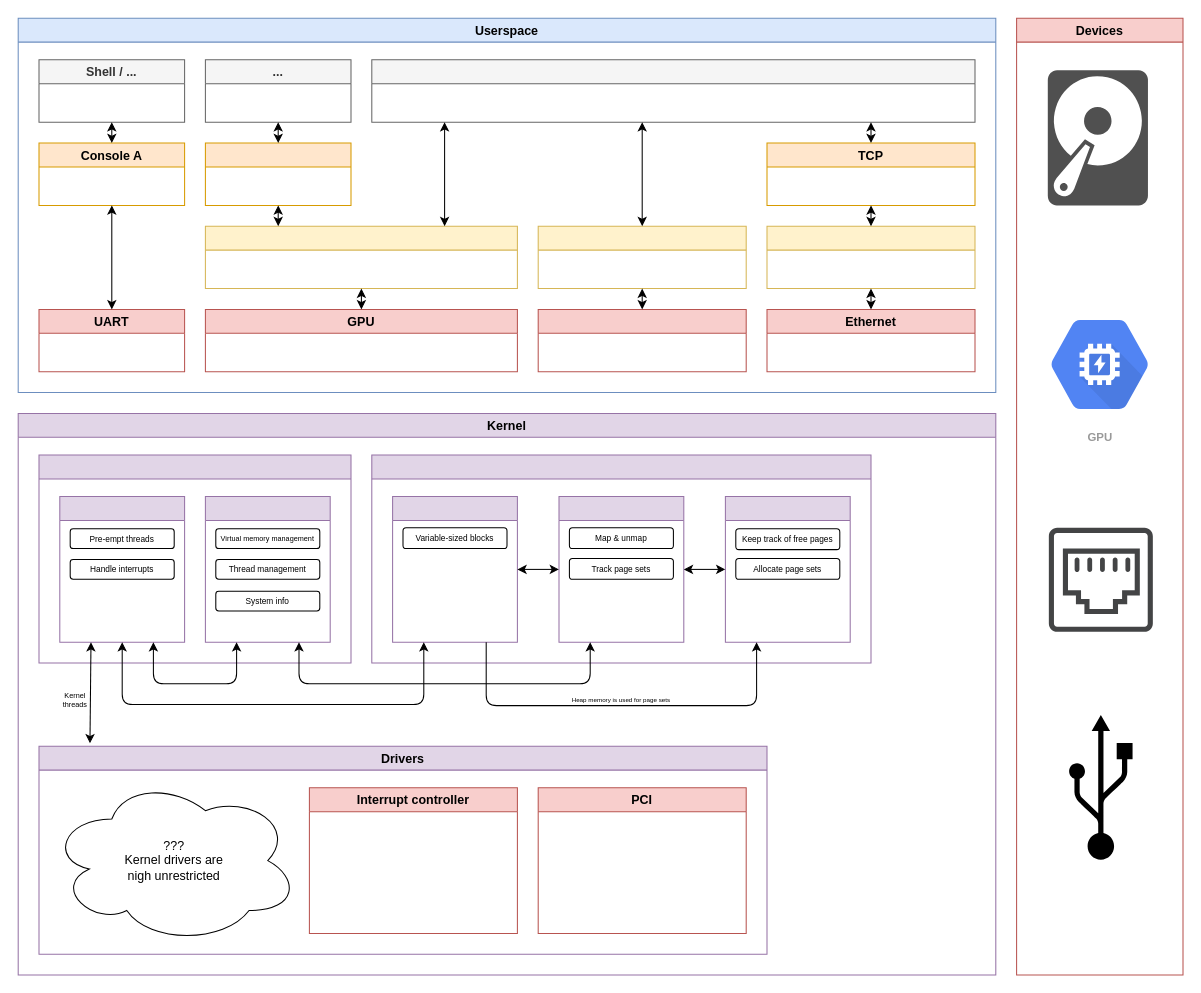
The diagram is 1201 pixels wide and 993 high, and some of its shapes have lost their labels. Each missing label, with the box of its shape:
Console B: (204, 142, 351, 205)
Filesystem: (537, 225, 746, 289)
HDD: (537, 308, 746, 372)
Heap memory: (392, 496, 517, 642)
IP: (766, 225, 975, 289)
Memory management: (371, 454, 871, 663)
Physical memory: (724, 496, 850, 642)
Process management: (38, 454, 351, 663)
Really big "I do everything" application (e.g. webbrowser): (371, 59, 975, 122)
Scheduler: (59, 496, 185, 642)
System calls: (204, 496, 330, 642)
Virtual memory: (558, 496, 684, 642)
Window manager: (204, 225, 517, 289)
